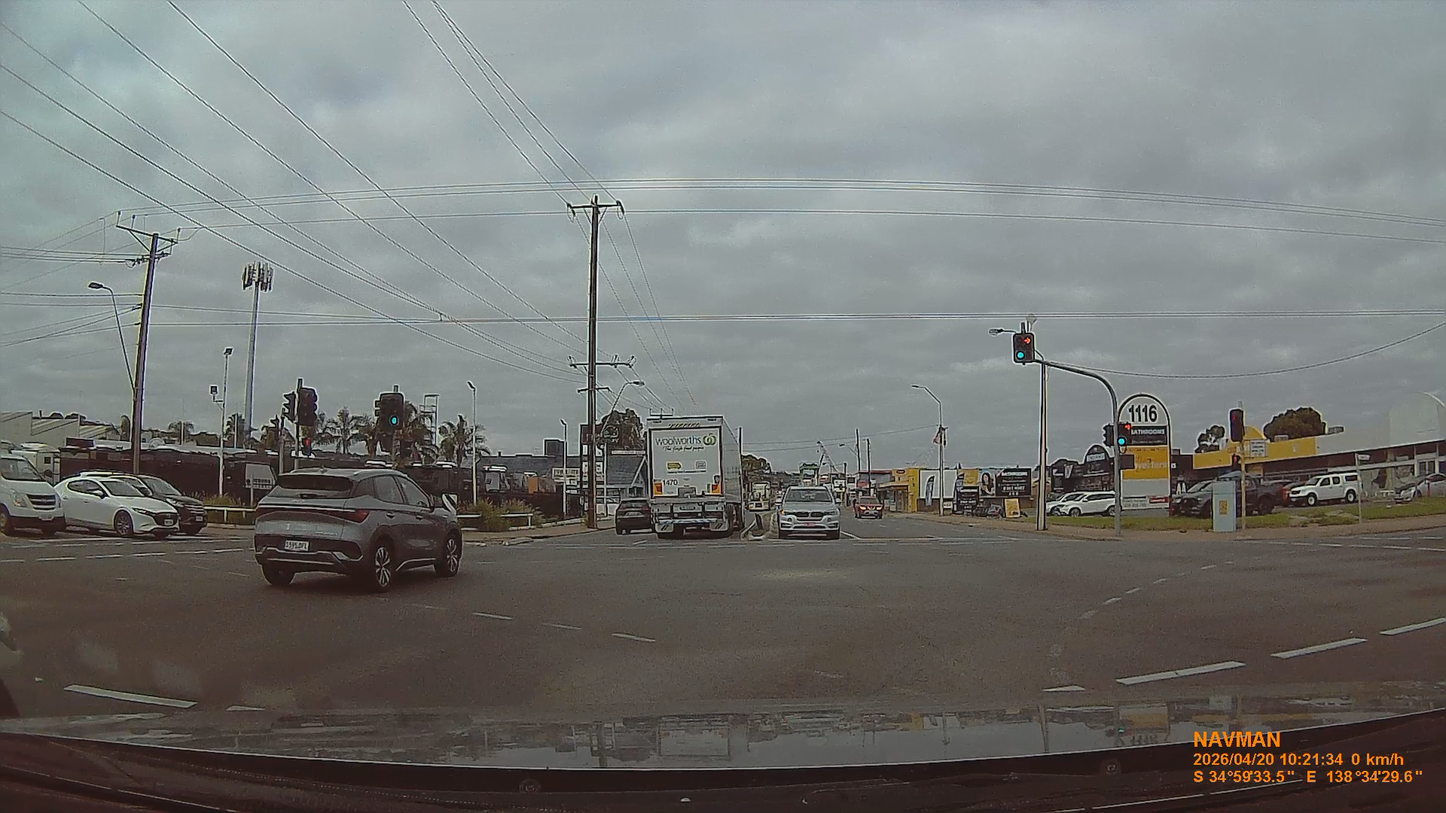fences: (60, 451, 266, 502)
